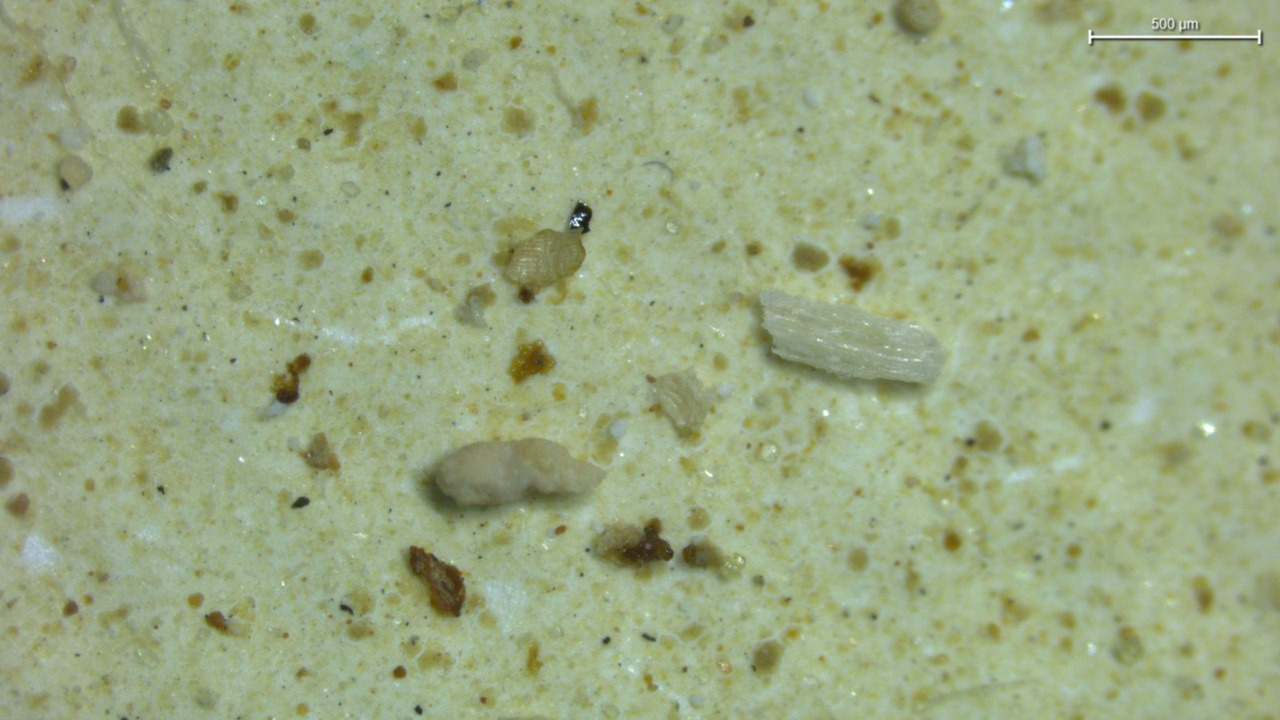microplastic_fragment: (759, 290, 943, 382), (432, 438, 605, 506), (505, 229, 585, 289), (651, 373, 716, 437)
